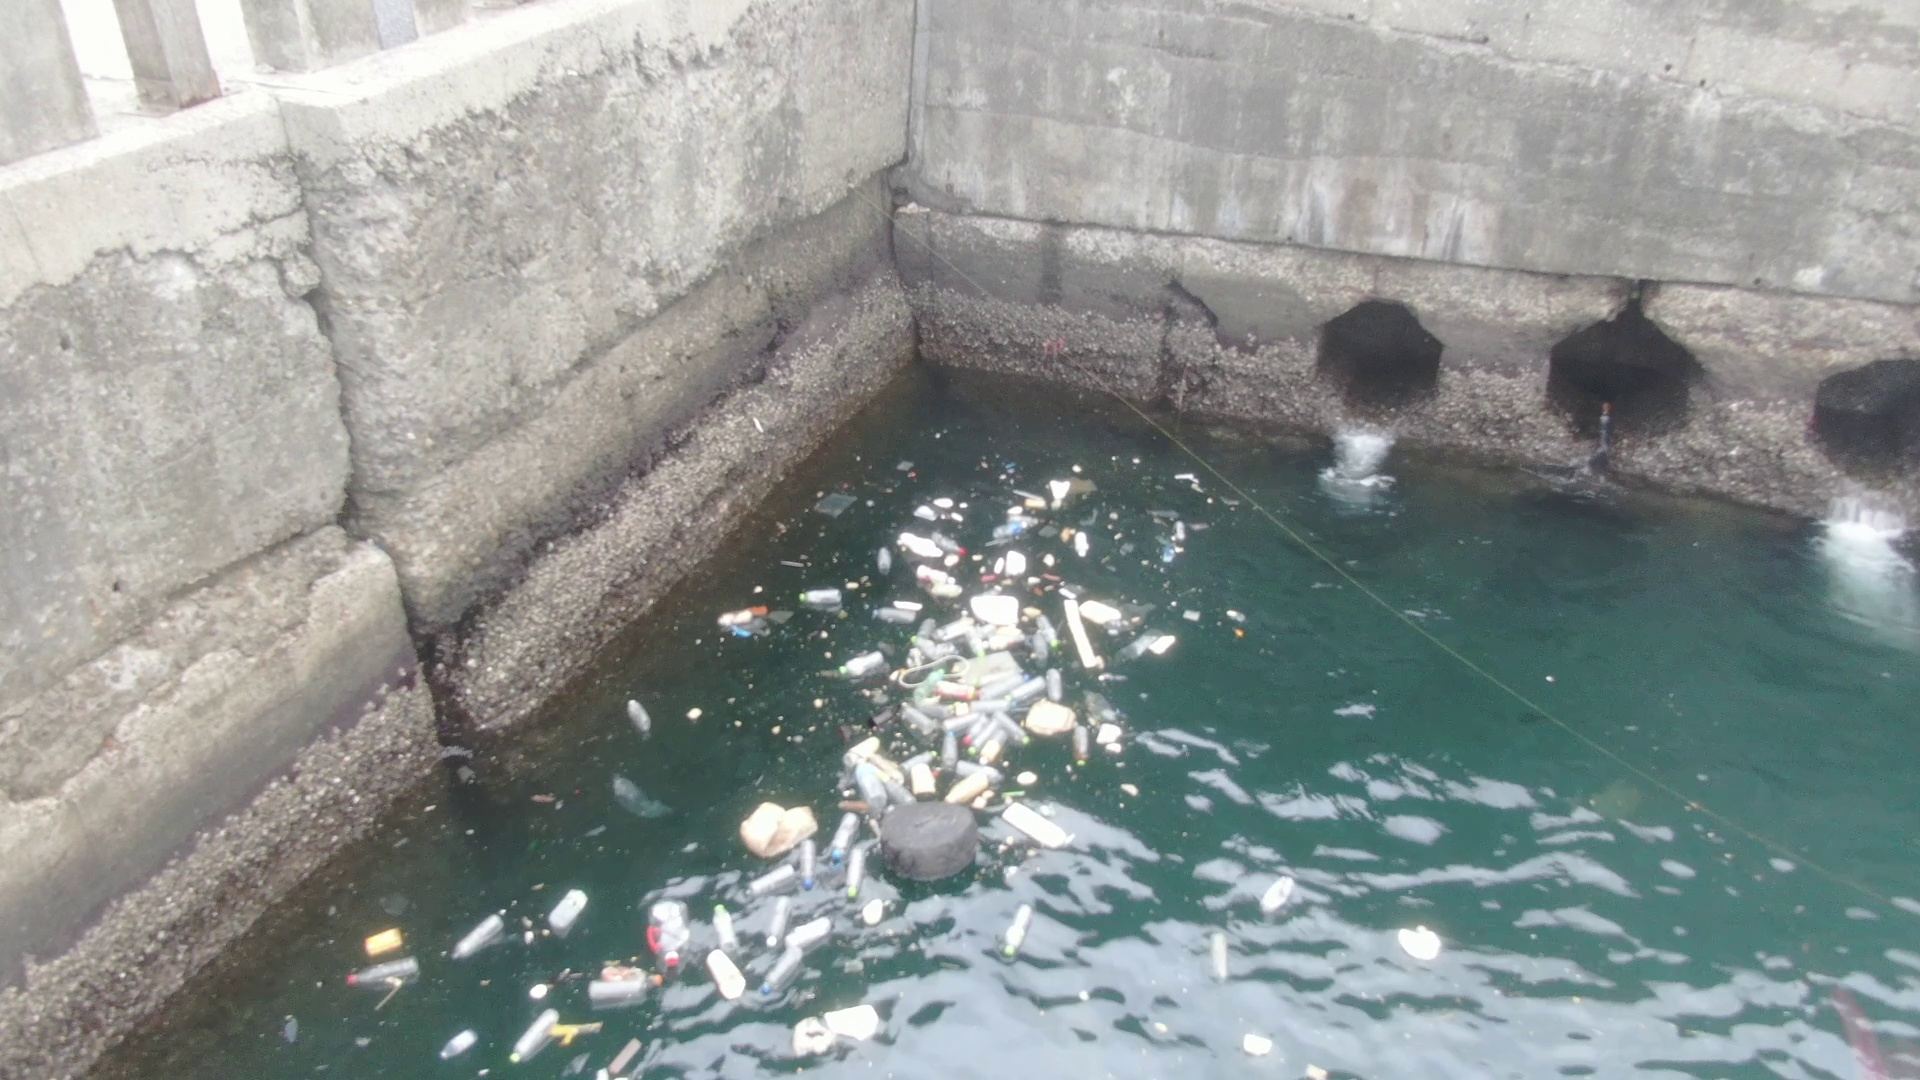bottle: (332, 951, 430, 1000), (502, 1000, 571, 1065), (444, 906, 512, 965), (992, 897, 1040, 972), (615, 690, 665, 742), (825, 808, 861, 865), (796, 829, 823, 897)
garbage: (327, 885, 924, 1076), (712, 467, 1218, 686), (736, 667, 1114, 911), (1189, 843, 1456, 1080)
